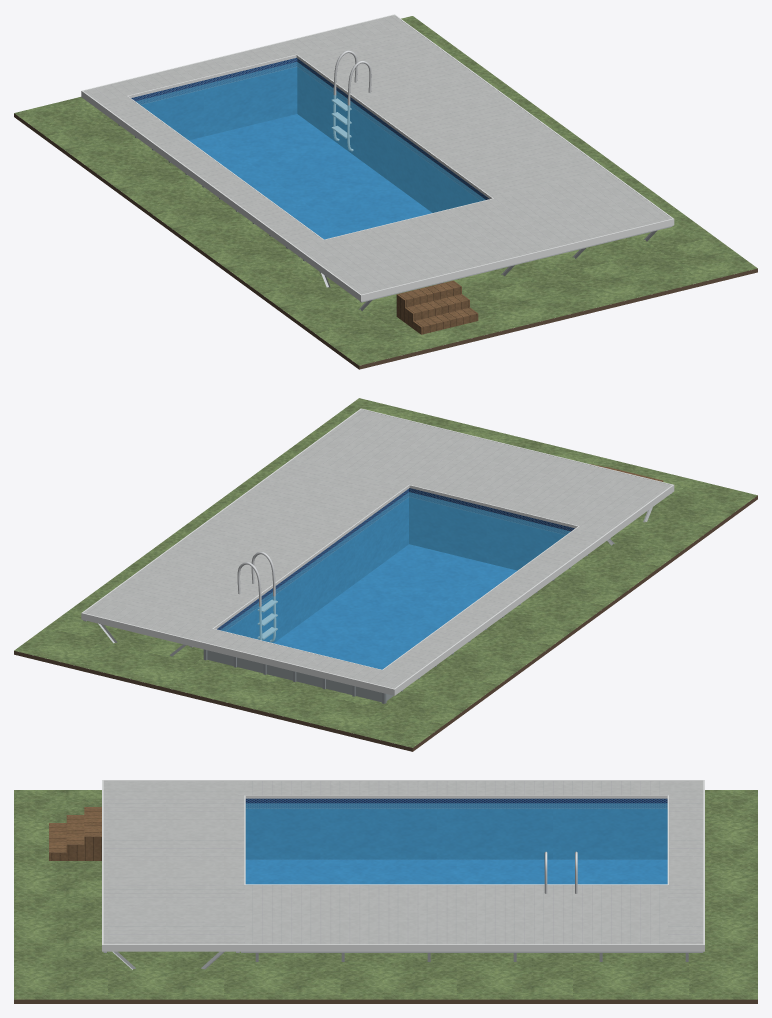
File: kayak-pool-12x24-gray-endside-rec-nofence.9112b56d6e.glb
The picture shows the model from 3 angles, top to bottom: view 1: azimuth 30°, elevation 25°; view 2: azimuth 150°, elevation 25°; view 3: azimuth 270°, elevation 25°; orthographic projection. The views are drawn at different scales.
Visible parts, largest first — view 1: deck, ground, water, liner_wall, liner_floor, fascia, soil, steps, steel, stud; view 2: deck, ground, water, liner_wall, liner_floor, fascia, soil, wall, steel; view 3: deck, ground, water, liner_wall, liner_floor, fascia, soil, steps, stud.
Part boxes in pixels (box(x1,y1,x2,y2)): deck: box(84, 15, 671, 294); ground: box(14, 16, 757, 365); water: box(136, 62, 485, 239); liner_wall: box(131, 57, 489, 212); liner_floor: box(189, 114, 431, 239); fascia: box(81, 14, 674, 301); soil: box(14, 113, 757, 369); steps: box(396, 280, 478, 334); steel: box(331, 50, 371, 151); stud: box(298, 226, 672, 310); deck: box(84, 409, 671, 688); ground: box(14, 398, 757, 747); water: box(221, 492, 570, 669); liner_wall: box(217, 488, 574, 643); liner_floor: box(274, 544, 516, 669); fascia: box(81, 408, 674, 695); soil: box(14, 495, 757, 751); wall: box(207, 650, 393, 702); steel: box(237, 551, 277, 642); deck: box(103, 781, 703, 944); ground: box(14, 790, 757, 999); water: box(245, 803, 667, 884); liner_wall: box(245, 798, 667, 859); liner_floor: box(245, 859, 667, 884); fascia: box(102, 780, 704, 951); soil: box(14, 999, 757, 1003); steps: box(49, 807, 101, 860); stud: box(103, 951, 703, 969).
Bounding box in the file's own units: 8.53 × 1.9 × 12.79.
12 materials, 5 textured.
